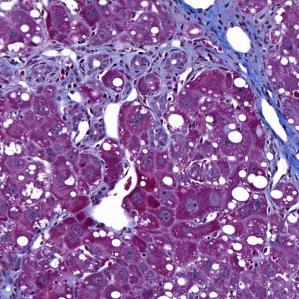fibrosis: (170, 5, 274, 81), (68, 42, 180, 100)
